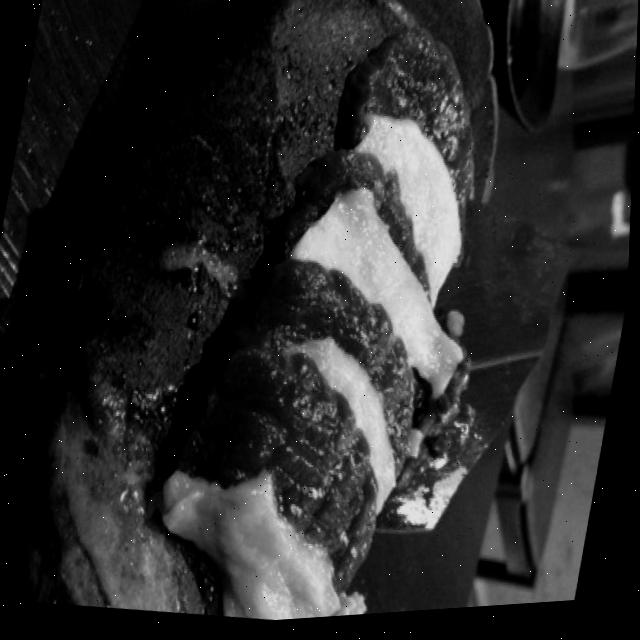刺身生食: (108, 0, 571, 633)
